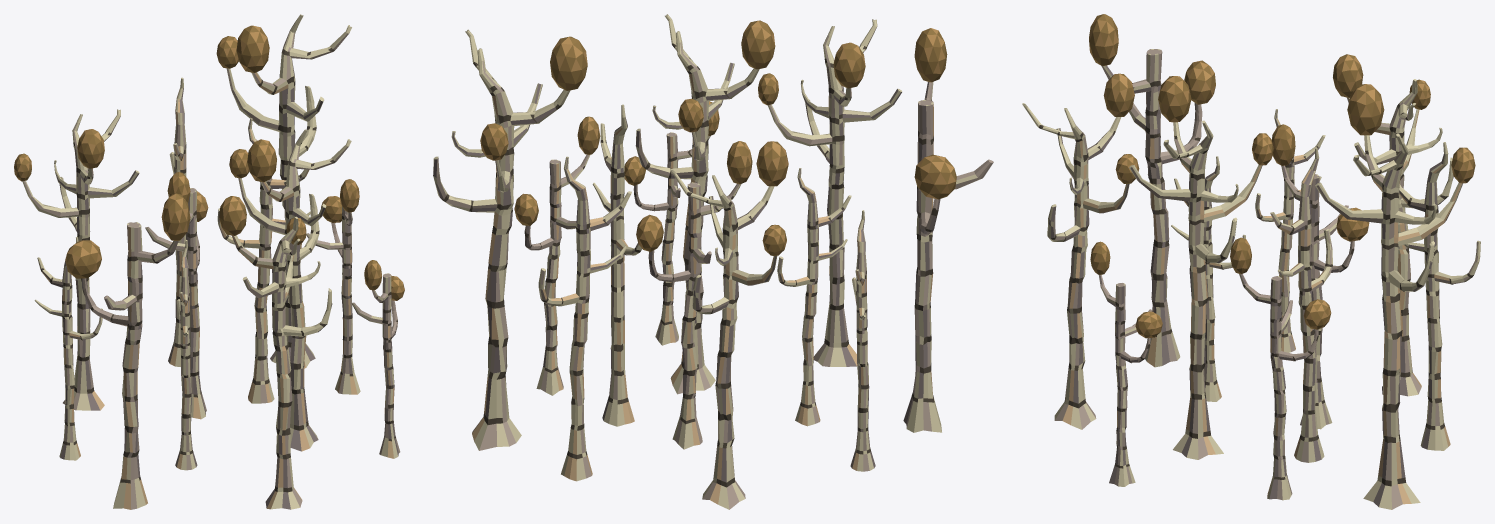
File: F_Brzozy_01 (1).fbx
The picture shows the model from 3 angles, left to right: view 1: azimuth 30°, elevation 25°; view 2: azimuth 150°, elevation 25°; view 3: azimuth 270°, elevation 25°; orthographic projection. The views are drawn at different scales.
Visible parts, largest first — view 1: F_Brzozy_01; view 2: F_Brzozy_01; view 3: F_Brzozy_01.
Boxes of the visible parts, x1=… form: F_Brzozy_01: x1=14, y1=14, x2=404, y2=509; F_Brzozy_01: x1=433, y1=14, x2=993, y2=509; F_Brzozy_01: x1=1022, y1=14, x2=1480, y2=509.
Size of the model in its own units: 925 by 887 by 943.
